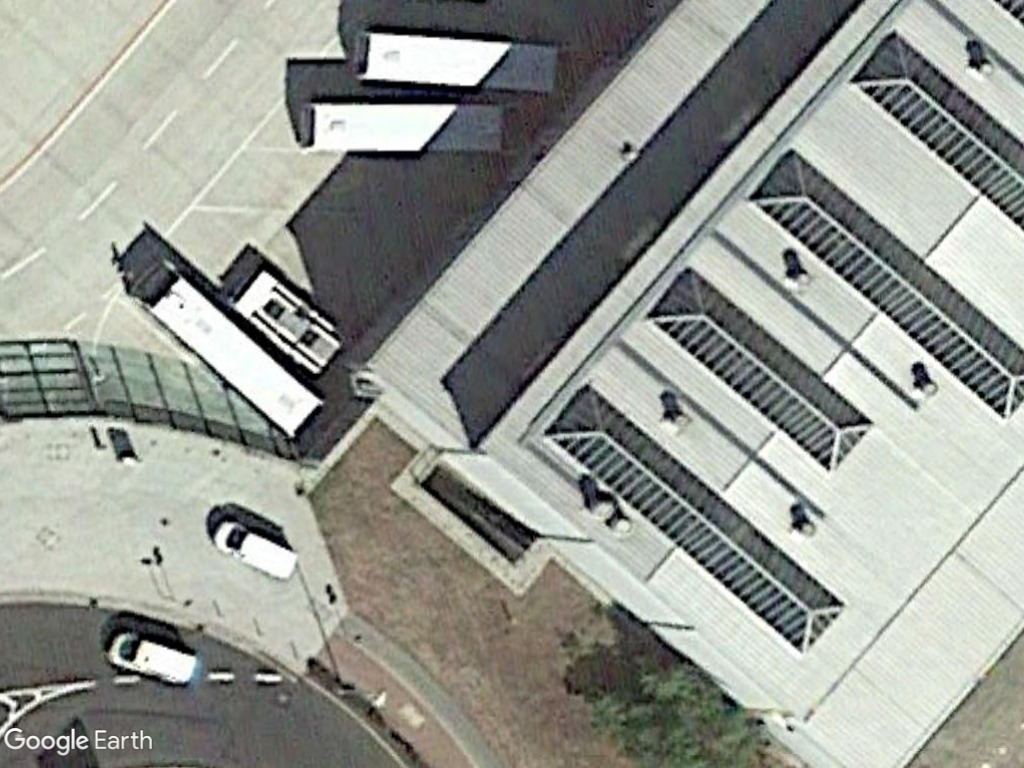bus: (132, 261, 324, 442), (348, 22, 563, 102), (292, 94, 511, 162)
van: (207, 510, 303, 586), (102, 623, 204, 690)
